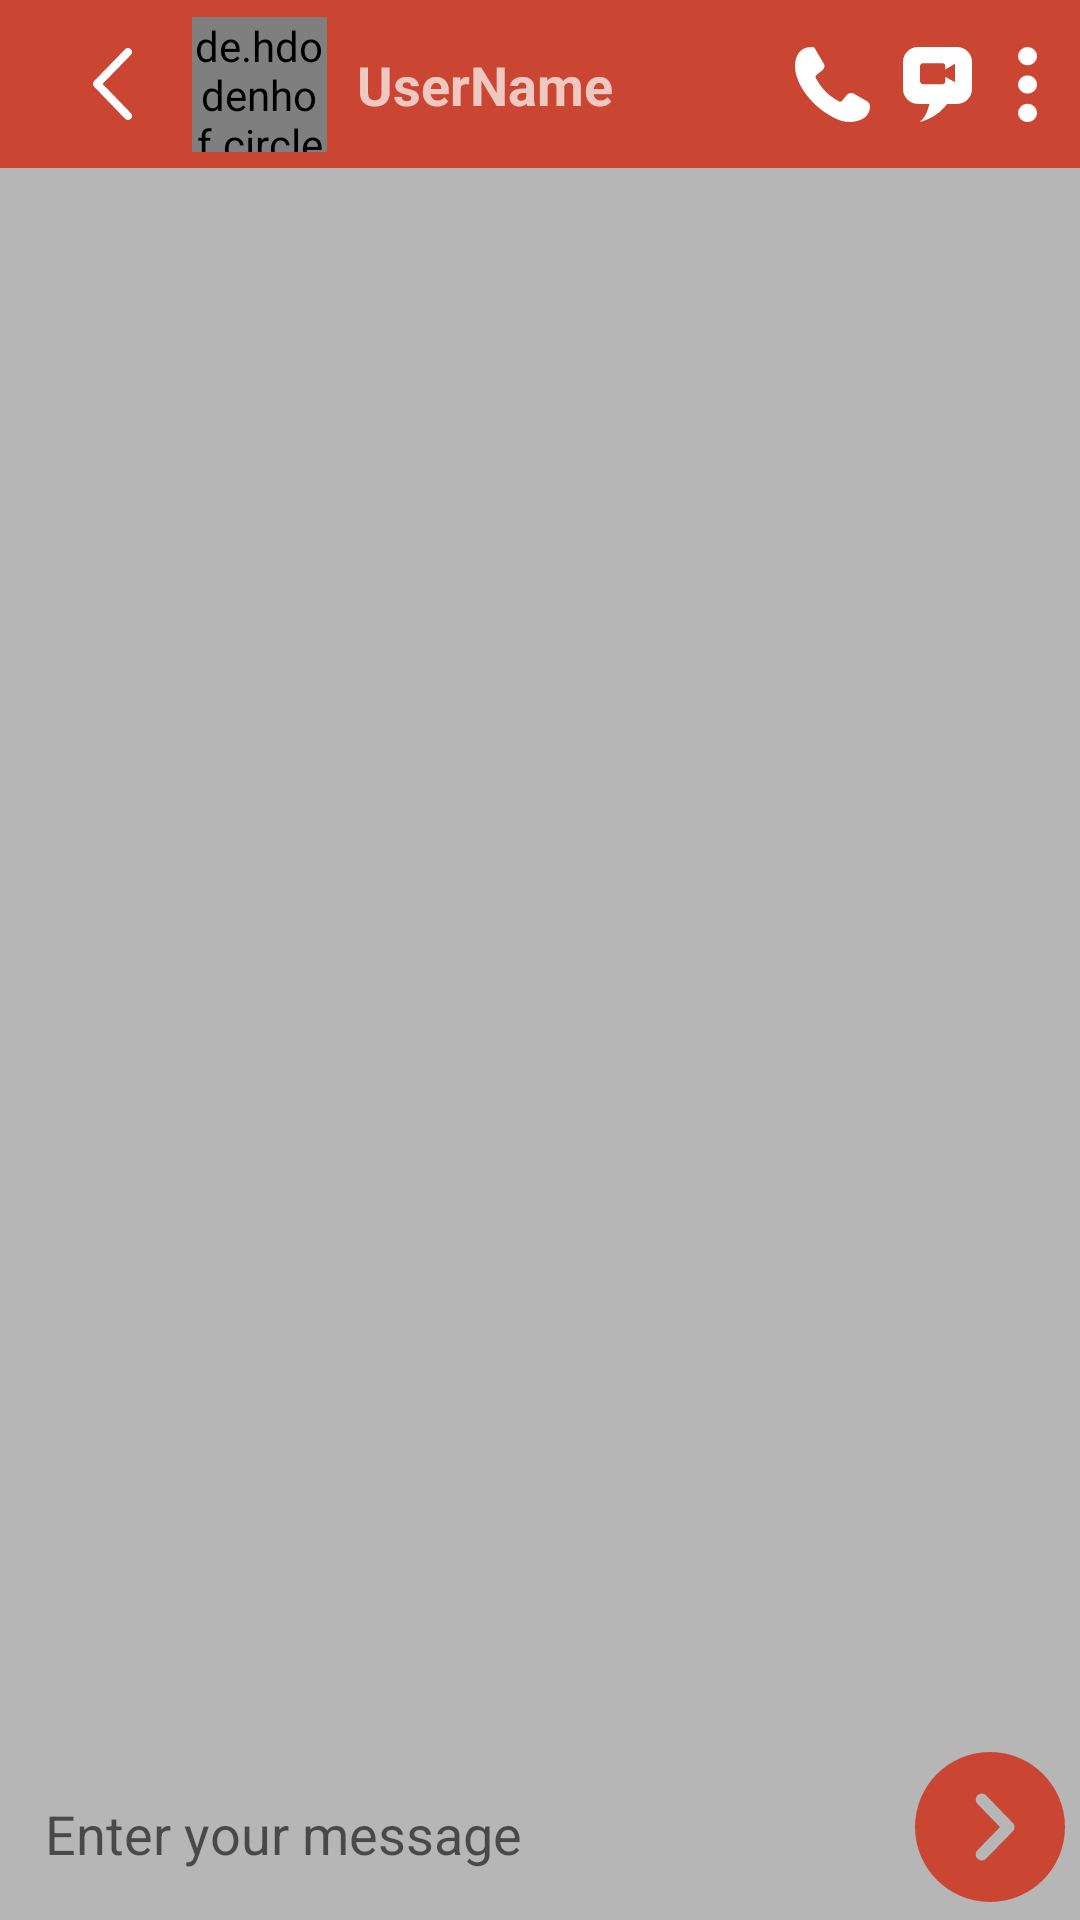

Icon click points for this 1080×1920 phone screenshot, format point (x, y):
angle circle arrow right: point (990, 1827)
line angle left: point (112, 84)
phone call: point (832, 84)
vertical dots: point (1027, 84)
video chat: point (937, 84)
